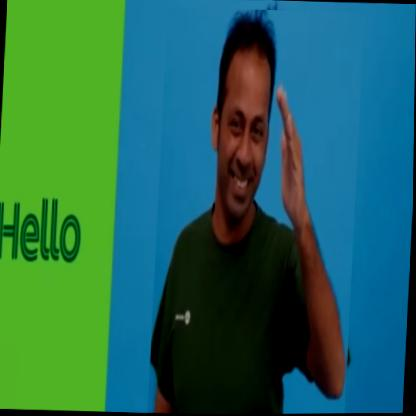Hello: (149, 6, 365, 415)
